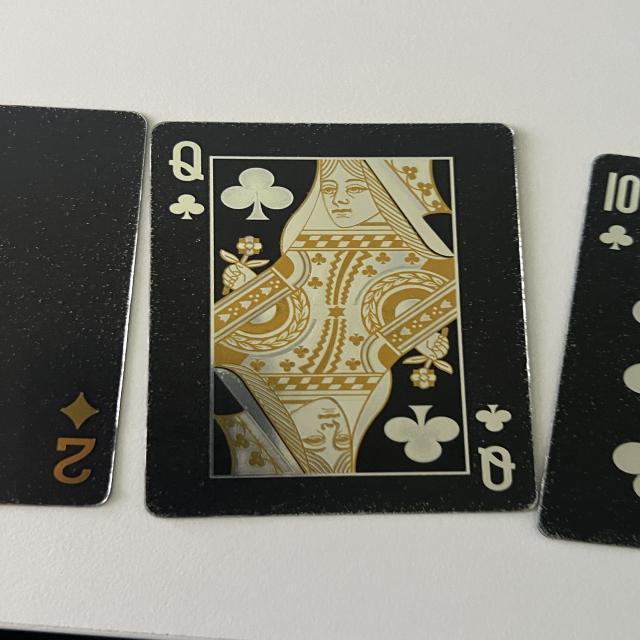10C: (590, 165, 640, 257)
2D: (52, 392, 111, 493)
QC: (469, 398, 525, 493), (163, 134, 214, 225)
